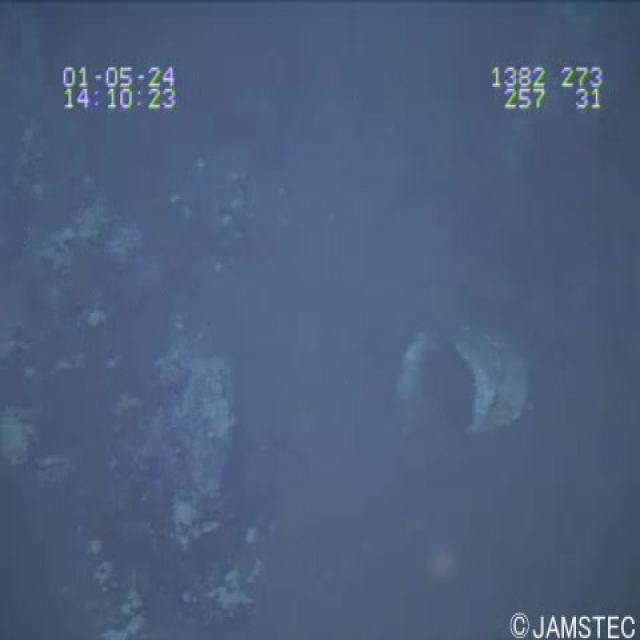plastic: (388, 313, 543, 448)
